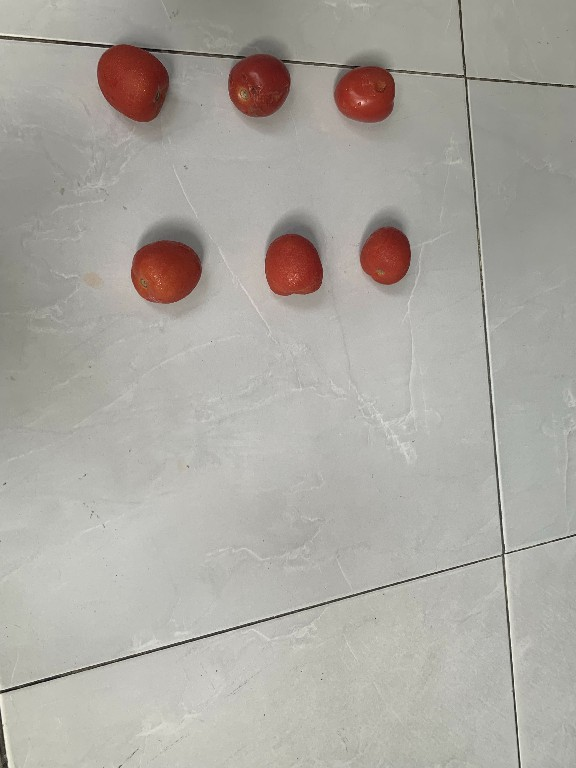NG: (222, 49, 295, 120), (332, 65, 398, 122)
OK: (92, 40, 174, 124), (125, 238, 207, 307), (264, 232, 328, 301), (358, 225, 408, 285)
